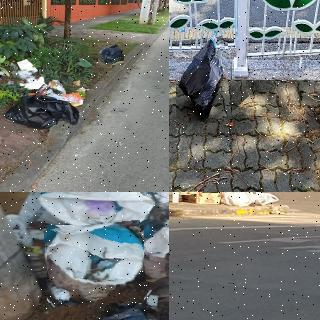Garbage: (45, 223, 146, 305), (20, 192, 156, 241), (174, 31, 230, 122), (1, 93, 83, 131), (97, 43, 124, 65), (221, 192, 255, 206)
